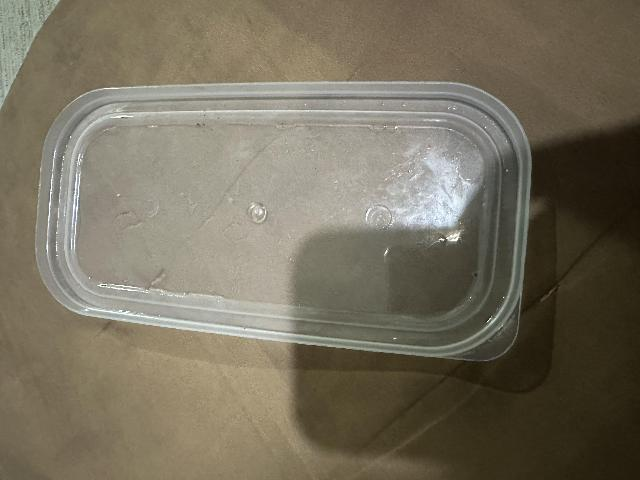Plastik: (40, 78, 525, 362)
